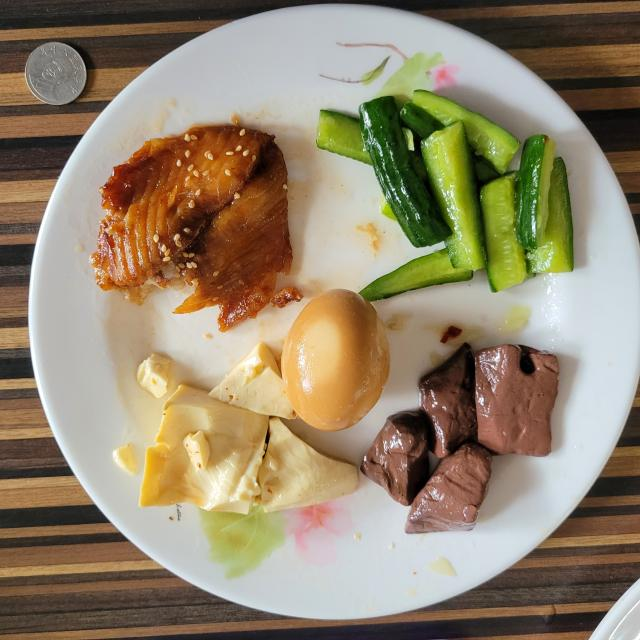Kabayaki sea bream fillet: (91, 125, 291, 330)
coin: (25, 41, 86, 105)
cucumber: (318, 89, 574, 301)
pig blood curd: (361, 344, 559, 532)
soy egg: (281, 289, 390, 431)
